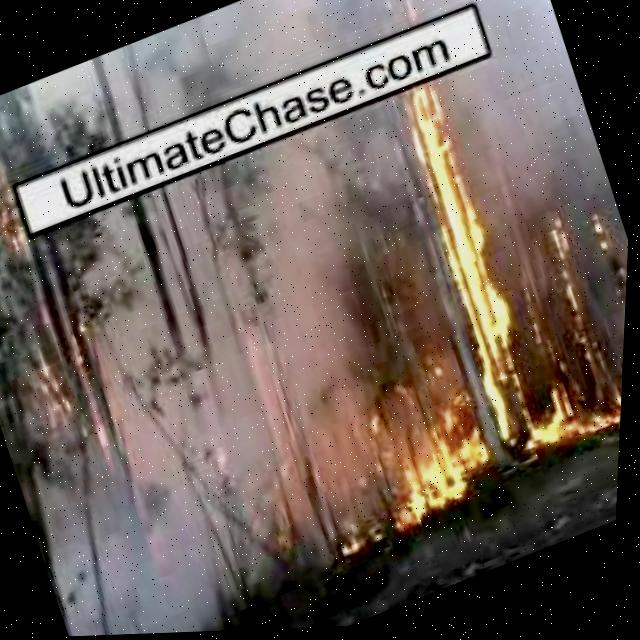Fire: (380, 76, 570, 470), (344, 375, 510, 541), (8, 323, 118, 467), (537, 217, 611, 345), (550, 353, 627, 453), (0, 153, 54, 280)
Smoke: (0, 94, 549, 640), (32, 0, 541, 163)
